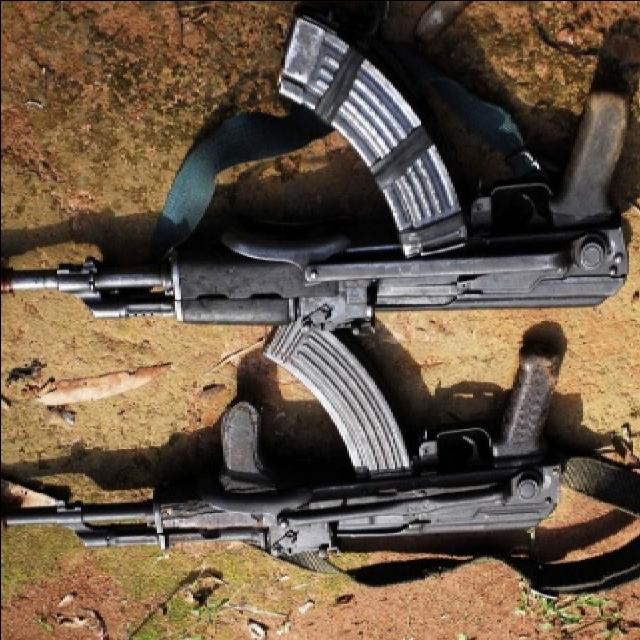rifle: (3, 12, 637, 327), (3, 327, 605, 559)
